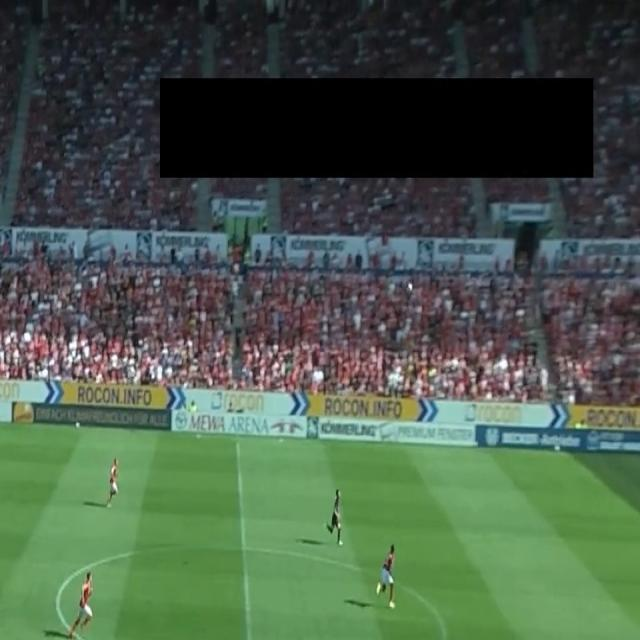ball: (406, 282, 413, 294)
